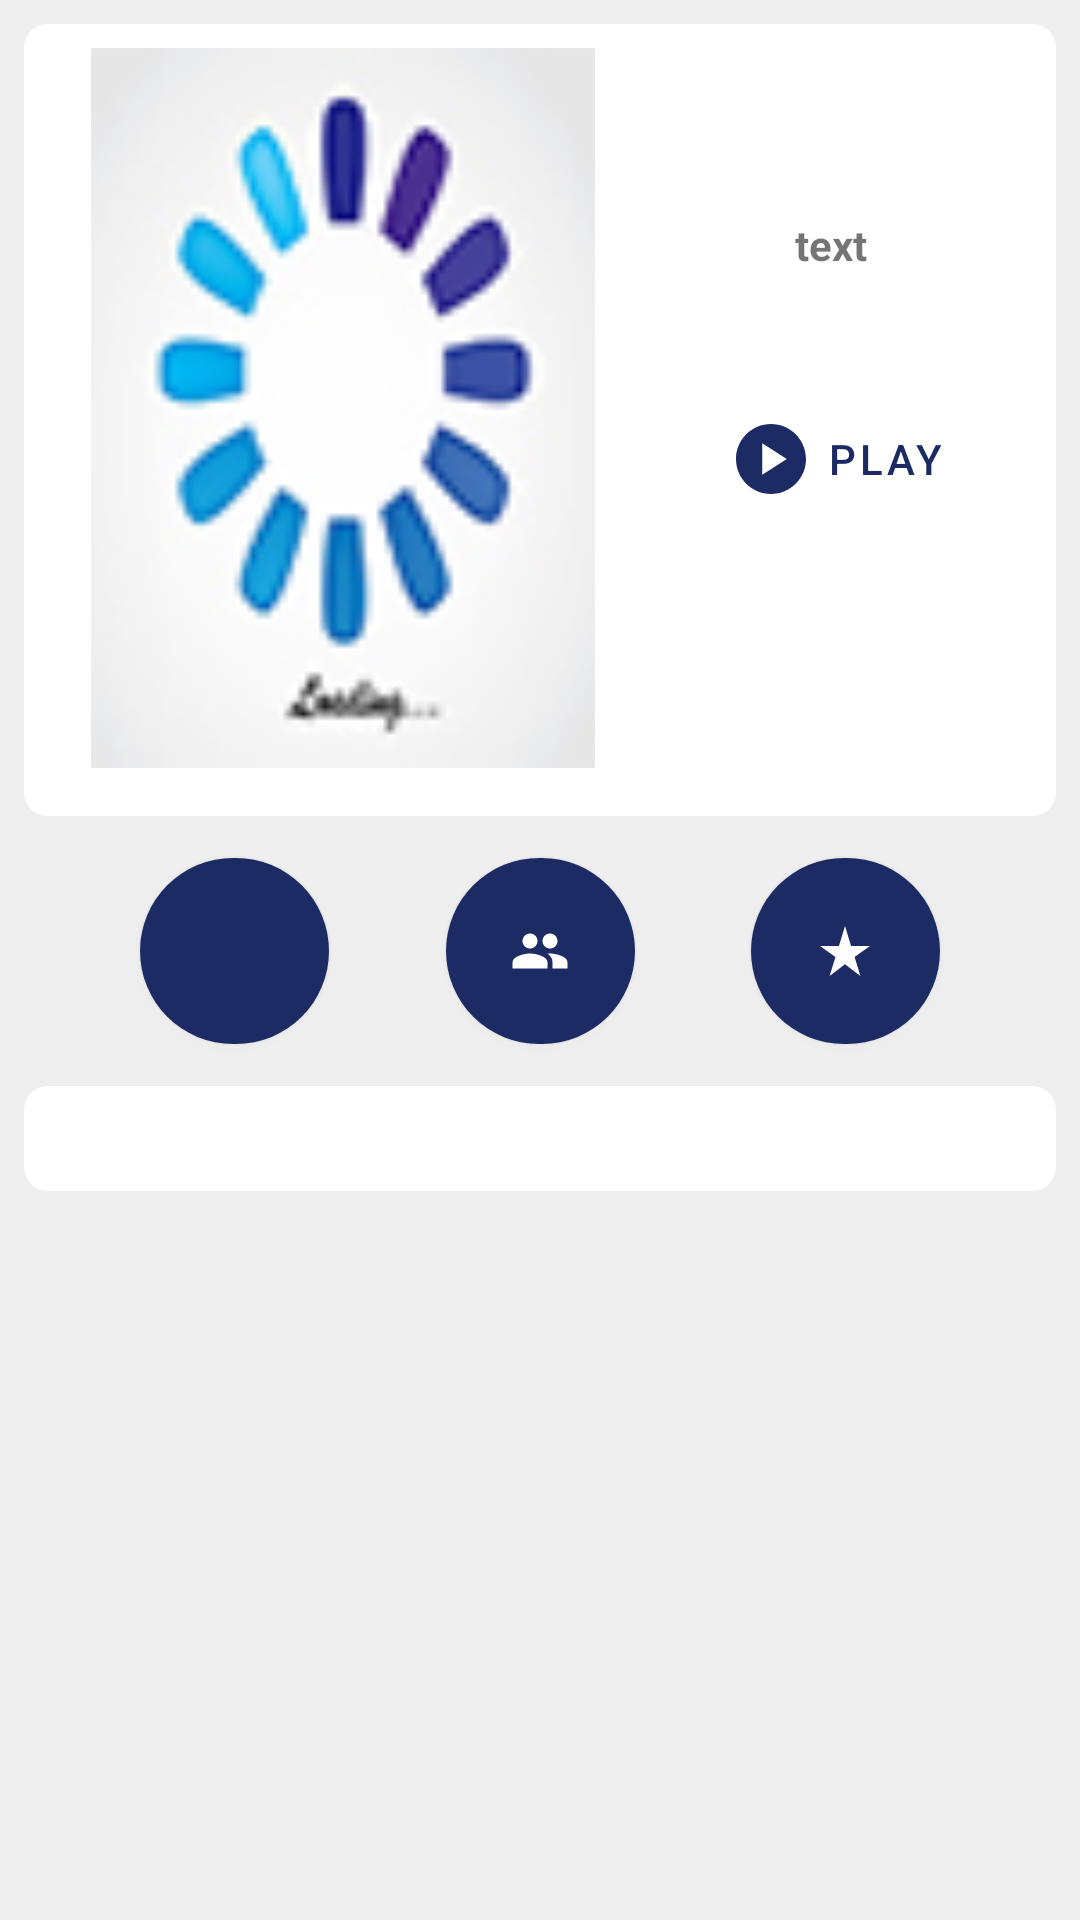

Icon bounding boxes for this 1080w x 1920h phone screenshot, format (x1, y1, x2, y2):
people: (446, 858, 635, 1044)
star rate: (751, 858, 940, 1044)
